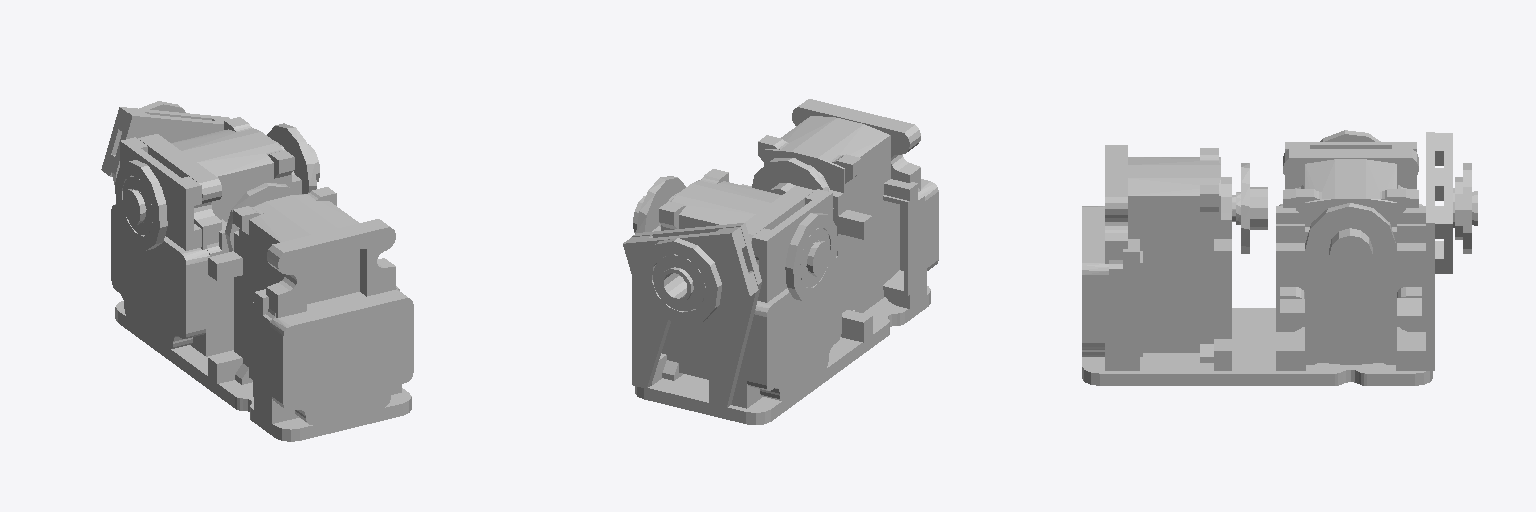
File: roki2_simlify_Dual_Servo_Al_022Copyv1_2_mesh.obj
3 renders of one model, left to right at view 1: azimuth 30°, elevation 25°; view 2: azimuth 150°, elevation 25°; view 3: azimuth 270°, elevation 25°, orthographic.
Visible parts, largest first — view 1: Body35, Body33, Body22, Body24, Body29, Body25, Body28, Body38, Body21, Body30, Body32, Body31; view 2: Body33, Body24, Body22, Body38, Body29, Body30, Body25, Body41, Body28, Body35, Body32, Body21 (+2 smaller); view 3: Body33, Body22, Body29, Body21, Body35, Body30, Body24, Body38, Body32, Body41, Body25.
Part boxes in pixels (x1,y1,x2,y2): Body35: (270, 225, 413, 424); Body33: (208, 187, 399, 422); Body22: (142, 117, 301, 355); Body24: (111, 137, 209, 356); Body29: (115, 301, 411, 441); Body25: (120, 137, 201, 250); Body28: (115, 160, 167, 250); Body38: (111, 112, 223, 184); Body21: (267, 123, 319, 193); Body30: (101, 107, 229, 176); Body32: (225, 183, 297, 251); Body31: (123, 176, 152, 234); Body33: (742, 100, 924, 342); Body24: (743, 189, 841, 408); Body22: (651, 169, 810, 407); Body38: (632, 223, 761, 407); Body29: (635, 286, 930, 424); Body30: (623, 227, 758, 306); Body25: (752, 189, 832, 302); Body41: (640, 238, 721, 325); Body28: (785, 213, 837, 300); Body35: (808, 99, 938, 296); Body32: (752, 158, 833, 208); Body21: (633, 176, 685, 233); Body33: (1109, 145, 1231, 370); Body22: (1276, 151, 1425, 370); Body29: (1082, 308, 1432, 385); Body21: (1305, 203, 1395, 288); Body35: (1082, 145, 1108, 370); Body30: (1435, 133, 1477, 273); Body24: (1279, 149, 1422, 298); Body38: (1426, 132, 1434, 370); Body32: (1232, 163, 1267, 253); Body41: (1455, 163, 1471, 253); Body25: (1285, 142, 1416, 188).
Bounding box in the file's own units: 0.0451 × 0.048 × 0.0869.